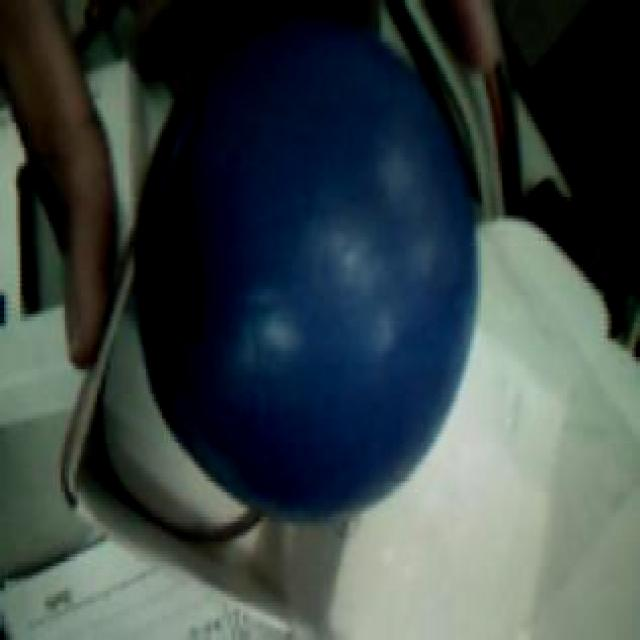BallPurple: (135, 16, 477, 520)
